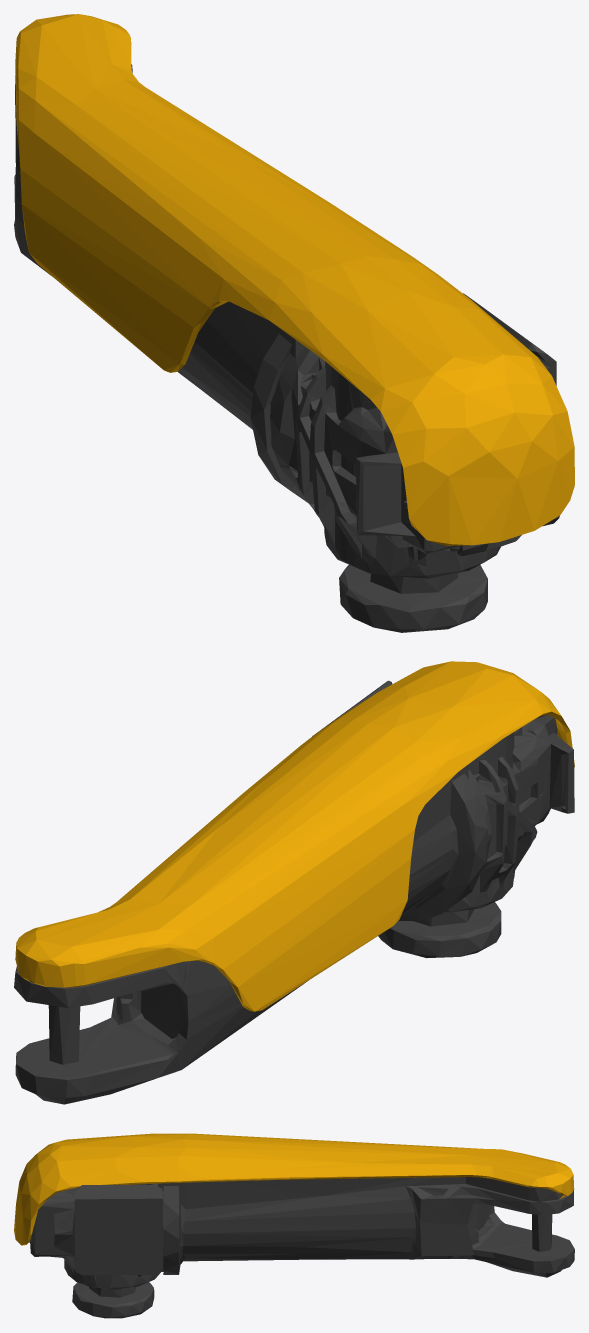
The model's file is front_left_upper_leg_compressed.dae.
3 renders of one model, top to bottom at view 1: azimuth 30°, elevation 25°; view 2: azimuth 150°, elevation 25°; view 3: azimuth 270°, elevation 25°, orthographic. The views are drawn at different scales.
Visible parts, largest first — view 1: node; view 2: node; view 3: node.
Part boxes in pixels (x1,y1,x2,y2): node: (14, 14, 574, 632); node: (14, 661, 574, 1104); node: (14, 1133, 574, 1318).
Bounding box in the file's own units: 0.1014 × 0.1323 × 0.4188.
Materials: 1 (1 with a texture image).
